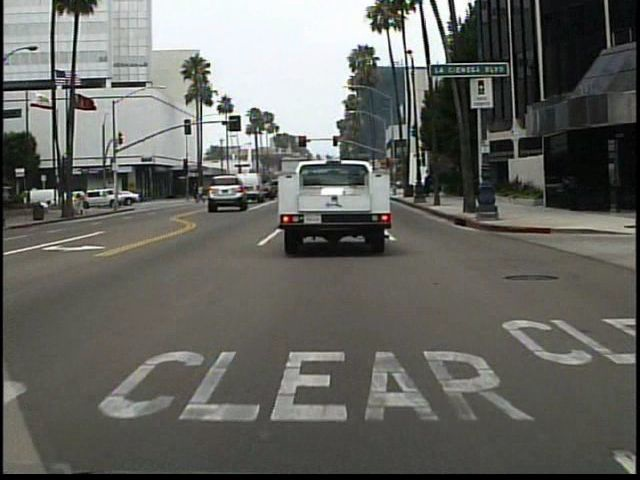person: (81, 187, 94, 212)
